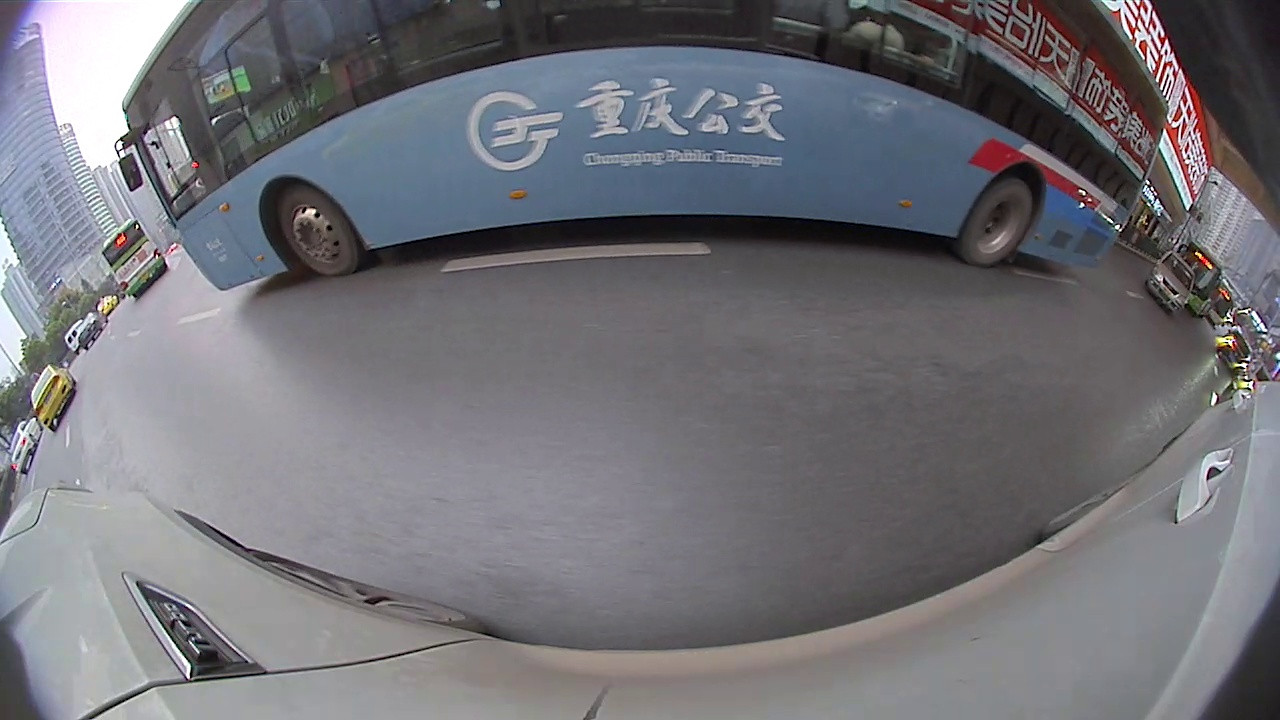car: (783, 62, 1060, 289), (33, 222, 155, 342), (1098, 273, 1186, 364), (1206, 421, 1275, 524)
front: (1017, 249, 1053, 288), (67, 305, 94, 339)
rear: (882, 198, 941, 260), (49, 315, 72, 341)
